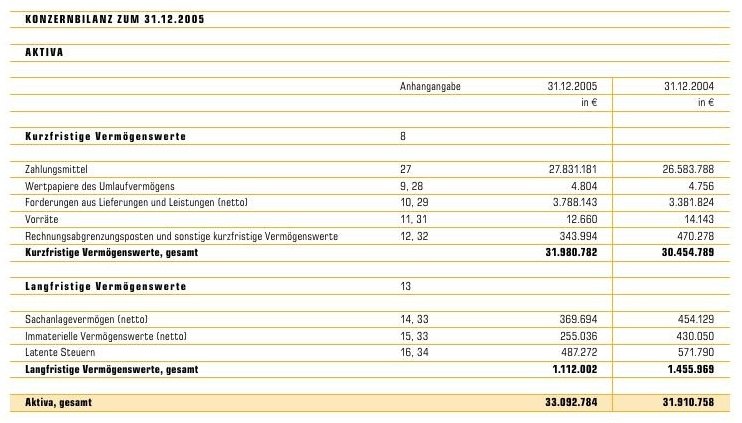table: (0, 0, 742, 423)
